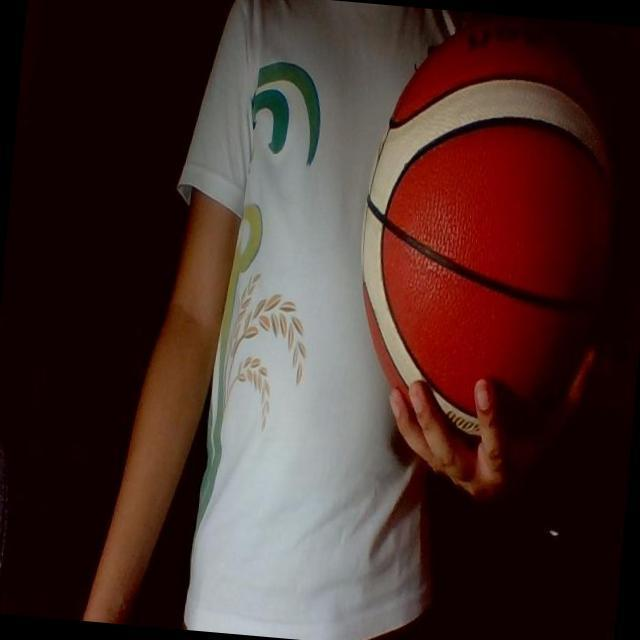ball: (340, 4, 635, 469)
